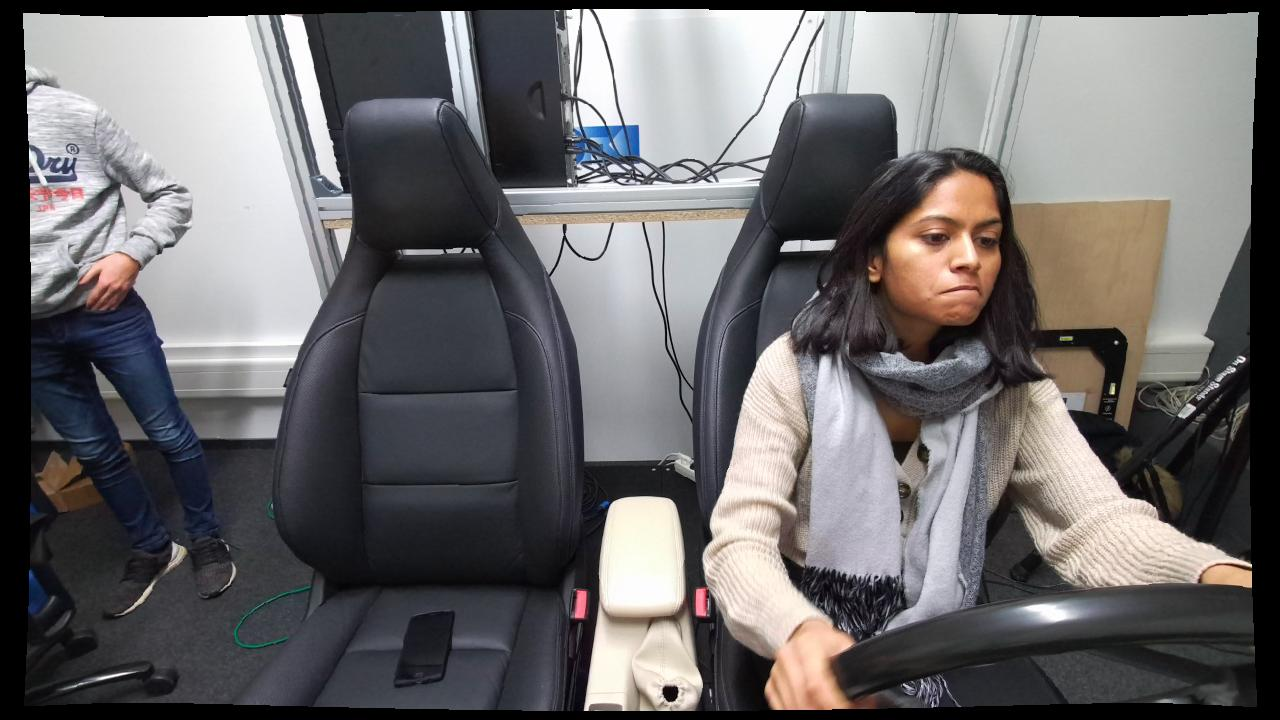SafeDriving: (701, 146, 1101, 708)
